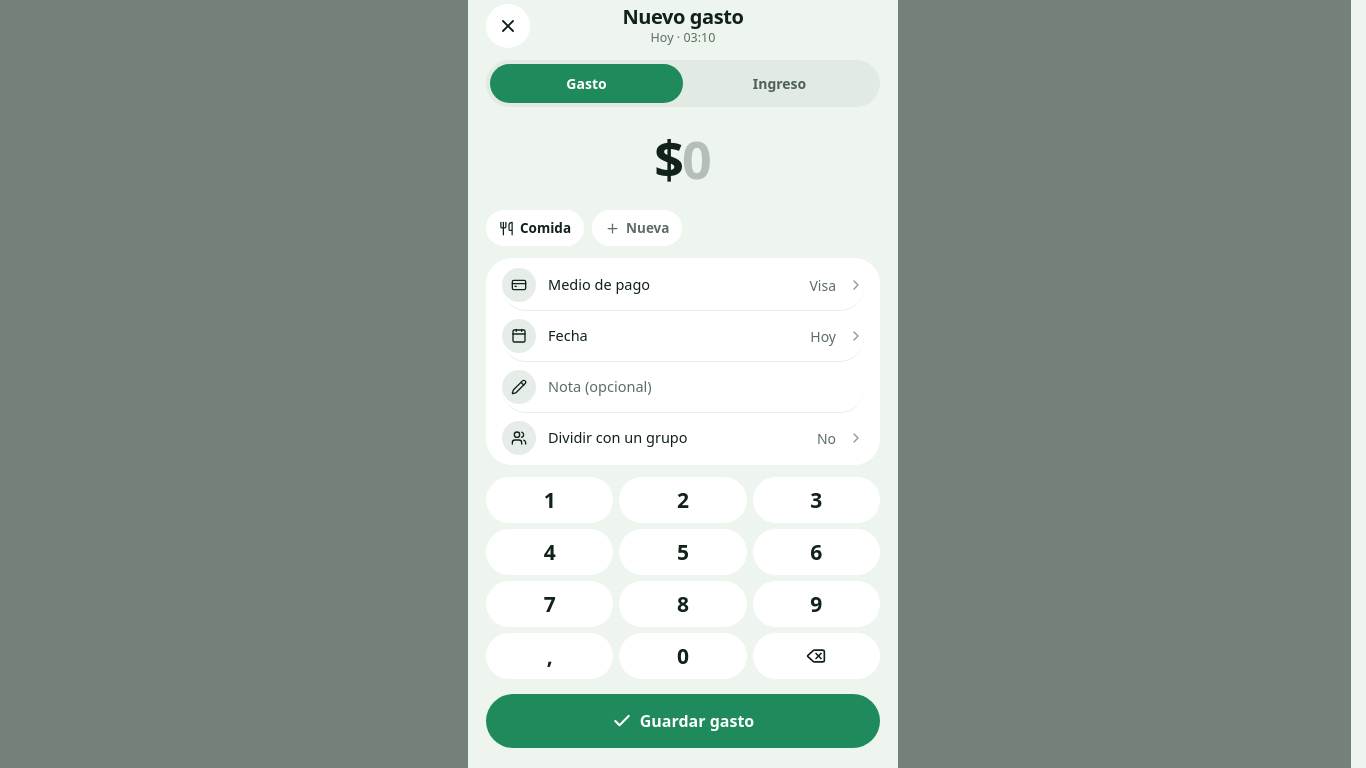
MovementSheet overdraft warning › never warns about missing balance on a credit card purchase
Select "Visa · Tarjeta" in the dropdown named "Cuenta": {"x": 519, "y": 285} [502,260,864,311]
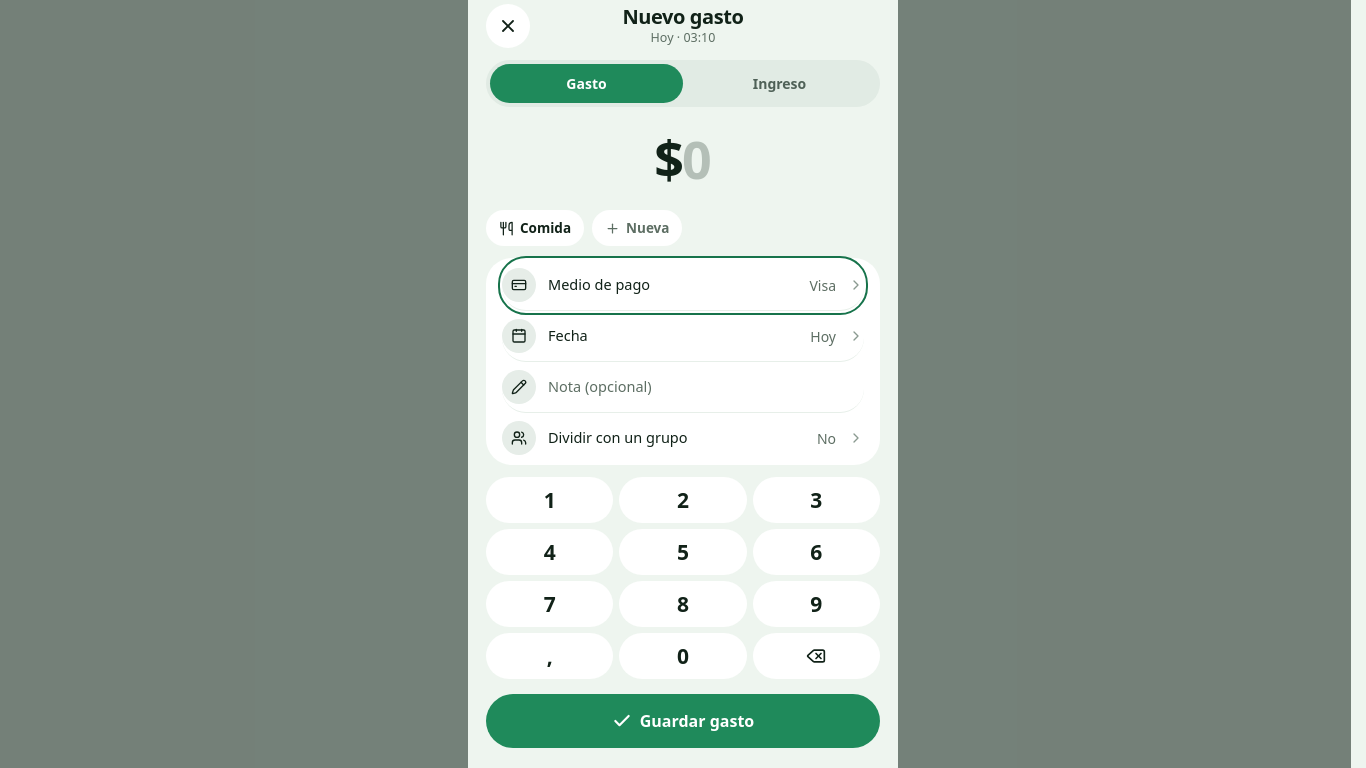
In the field named "Monto": {"x": 697, "y": 158} [682,123,712,194], type "50000"
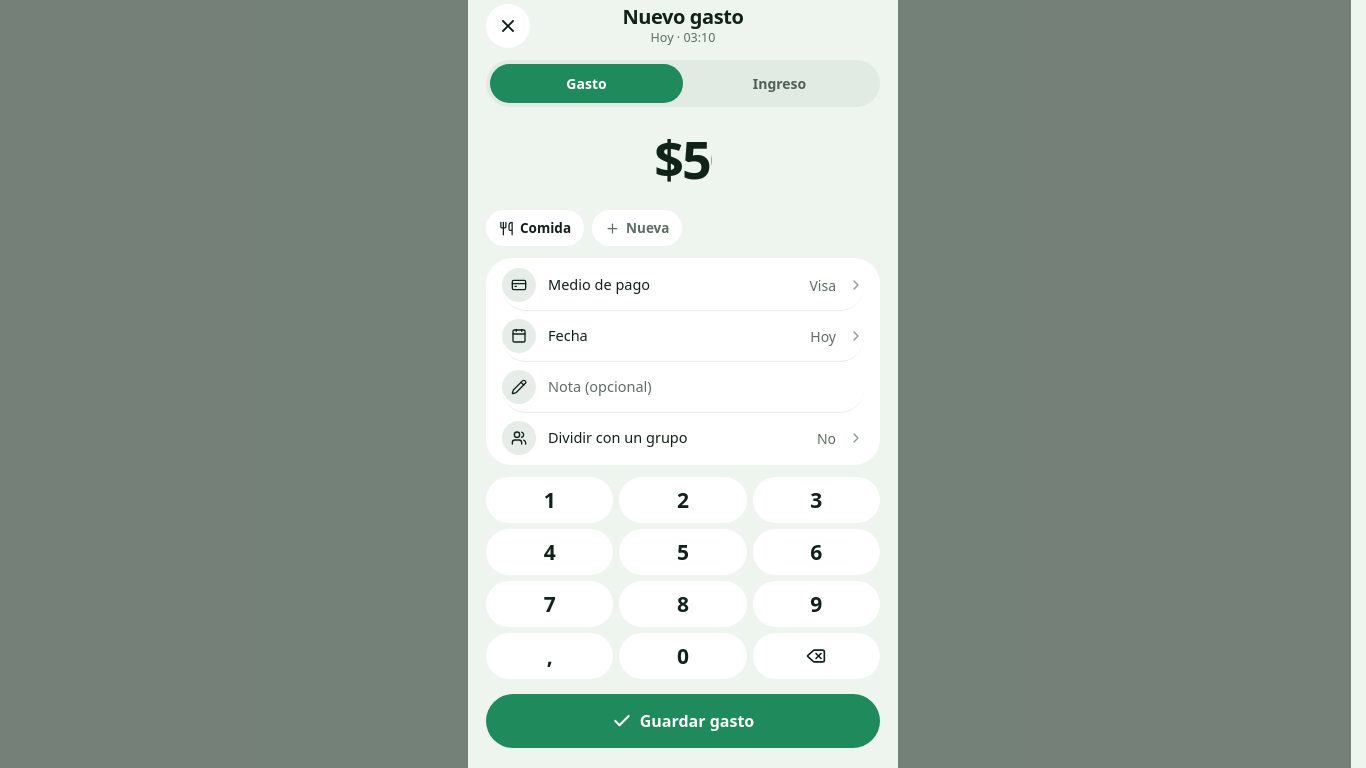
Click the button "Comida": {"x": 535, "y": 228} [486,210,584,246]
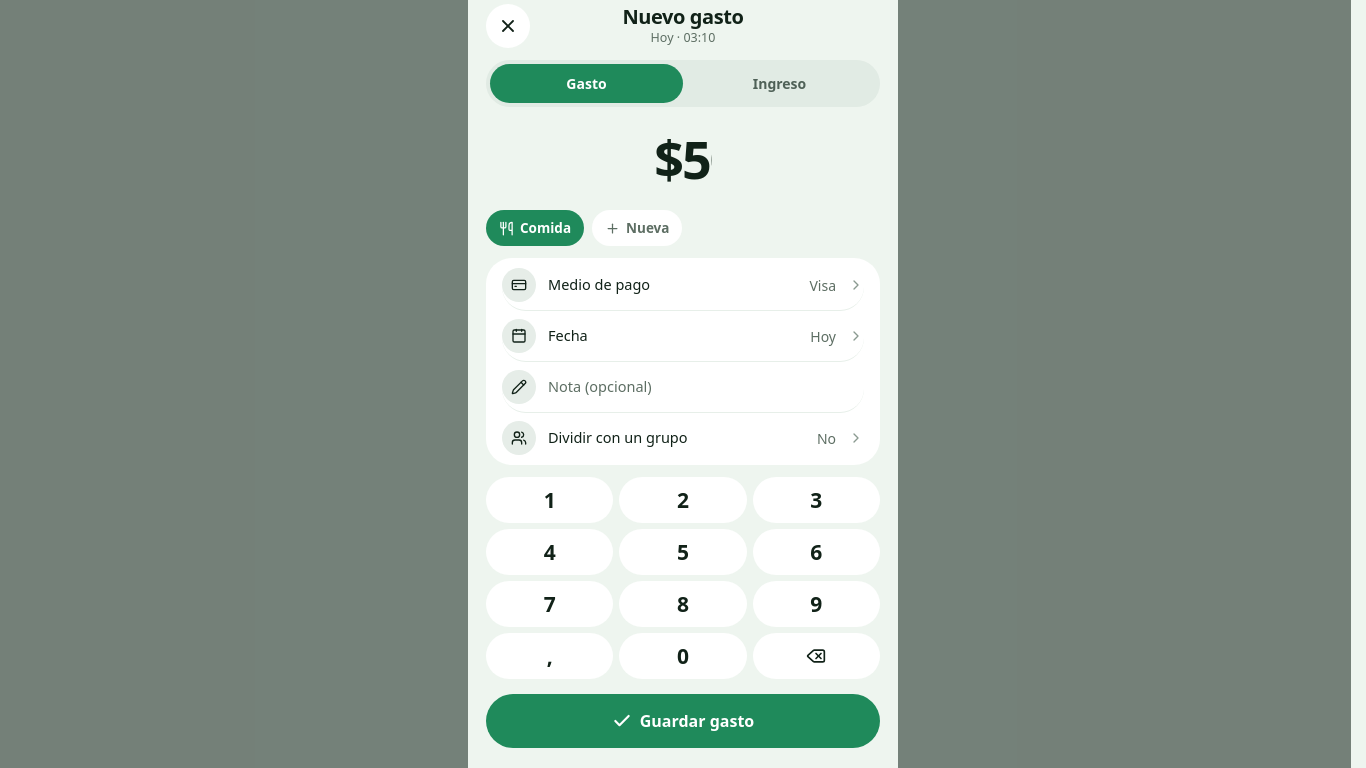
Click the button "Guardar gasto": {"x": 683, "y": 721} [486,694,880,748]
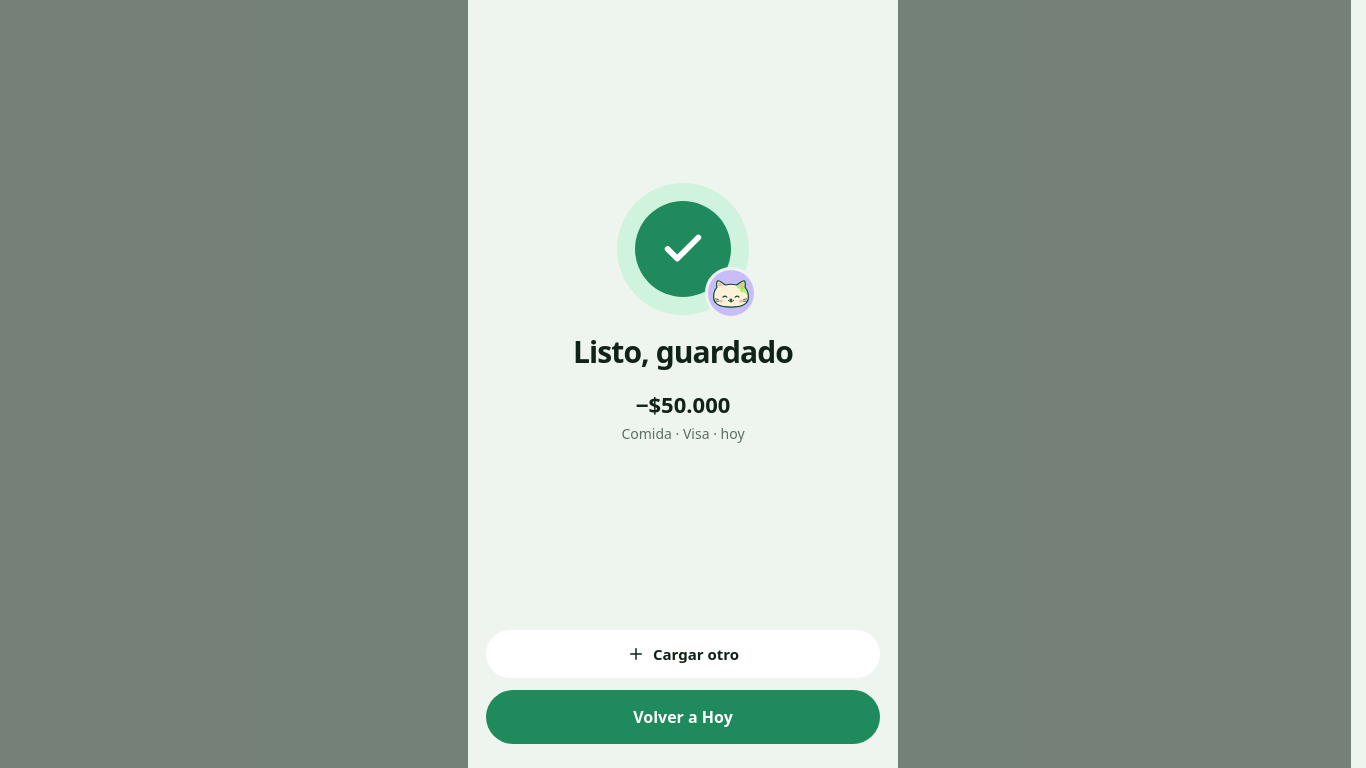
Now the text "Listo, guardado" is shown, box [573,328,793,374]
